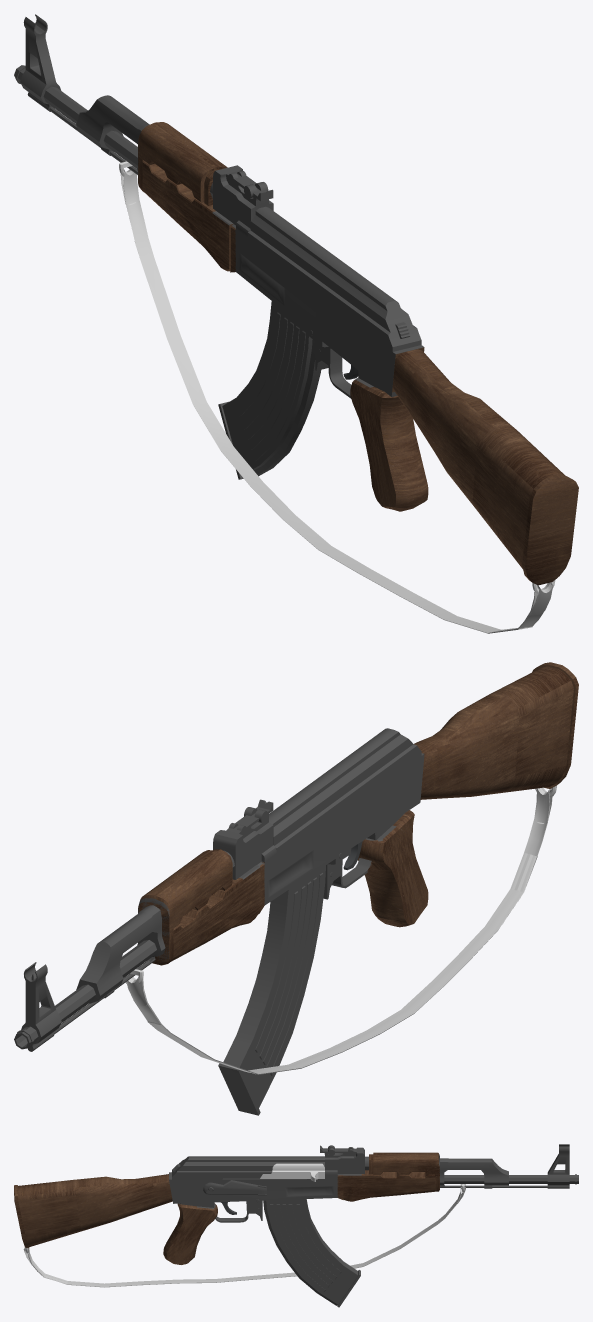
The picture shows the model from 3 angles, top to bottom: view 1: azimuth 30°, elevation 25°; view 2: azimuth 150°, elevation 25°; view 3: azimuth 270°, elevation 25°; orthographic projection. The views are drawn at different scales.
Parts seen in each view (by area): view 1: AK47; view 2: AK47; view 3: AK47.
Boxes of the visible parts, x1=… form: AK47: x1=14, y1=14, x2=578, y2=633; AK47: x1=14, y1=662, x2=578, y2=1115; AK47: x1=14, y1=1144, x2=578, y2=1307.
Size of the model in its own units: 12.47 by 45 by 144.
